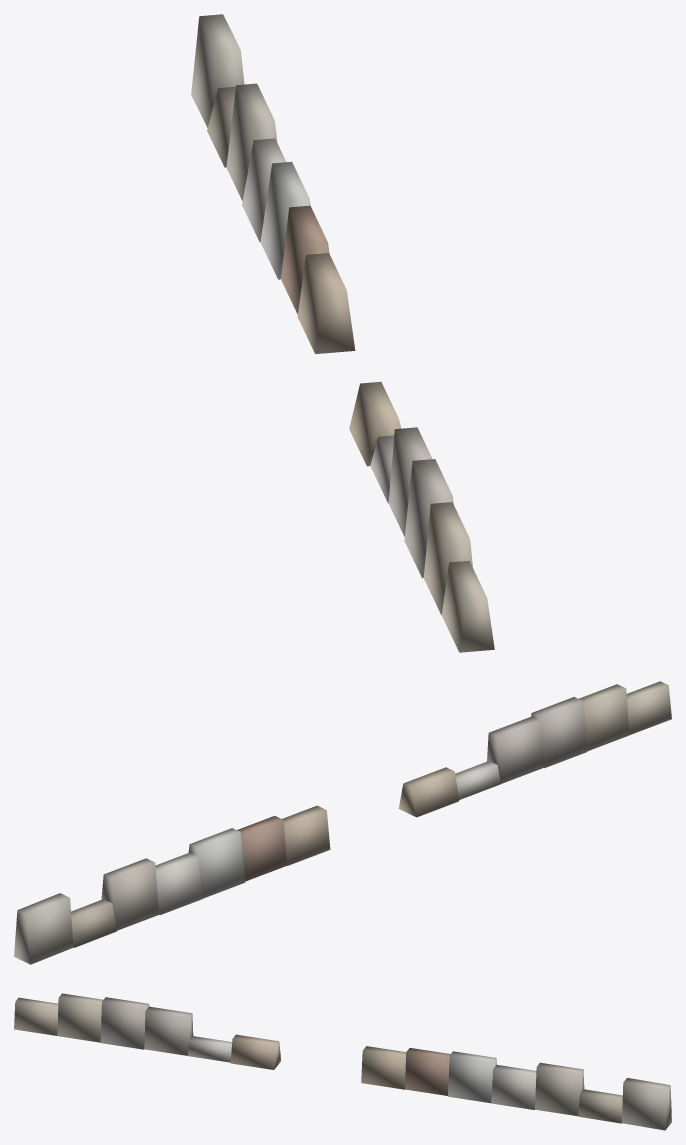
File: farm_30_24_collision.glb
3 views of the same model, one above another, from view 1: azimuth 30°, elevation 25°; view 2: azimuth 150°, elevation 25°; view 3: azimuth 270°, elevation 25° (orthographic). The views are drawn at different scales.
Parts seen in each view (by area): view 1: geometry_0; view 2: geometry_0; view 3: geometry_0.
Part boxes in pixels (<box>): geometry_0: <box>191,14,494,652</box>; geometry_0: <box>14,681,671,964</box>; geometry_0: <box>14,993,671,1130</box>.
Bounding box in the file's own units: 7.85 × 1.63 × 21.42.
